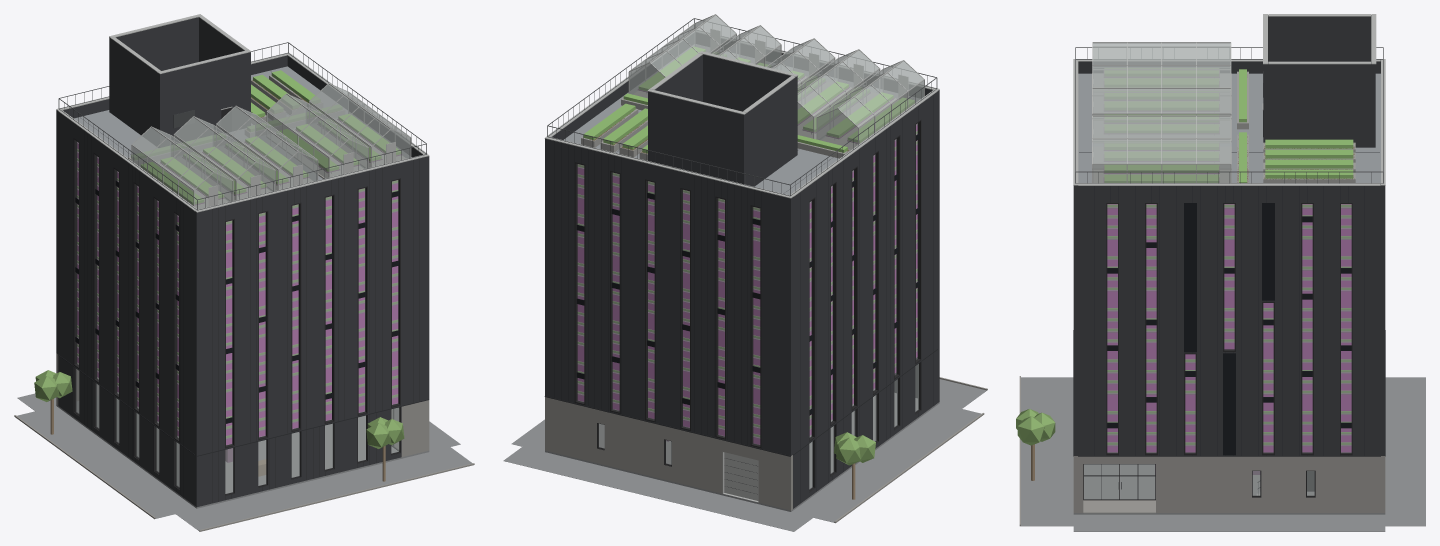
Rendered from clay-led-grow-block-clay-v007.glb.
The picture shows the model from 3 angles, left to right: view 1: azimuth 30°, elevation 25°; view 2: azimuth 150°, elevation 25°; view 3: azimuth 270°, elevation 25°; orthographic projection. The views are drawn at different scales.
Parts seen in each view (by area): view 1: CLAY_WALL, CLAY_GLASS, CLAY_TRIM, CLAY_FOUNDATION, CLAY_LEAF, CLAY_PALE, CLAY_LED, CLAY_JOINT, CLAY_SAND, CLAY_STONE, CLAY_MEMBRANE, CLAY_HARDWARE (+3 smaller); view 2: CLAY_WALL, CLAY_GLASS, CLAY_TRIM, CLAY_FOUNDATION, CLAY_STONE, CLAY_PALE, CLAY_LEAF, CLAY_LED, CLAY_JOINT, CLAY_MEMBRANE, CLAY_SAND, CLAY_RACK (+3 smaller); view 3: CLAY_WALL, CLAY_GLASS, CLAY_FOUNDATION, CLAY_LEAF, CLAY_STONE, CLAY_LED, CLAY_PALE, CLAY_TRIM, CLAY_DARKSLOT, CLAY_MEMBRANE, CLAY_SAND, CLAY_JOINT (+3 smaller).
Part boxes in pixels (x1,y1,x2,y2): CLAY_WALL: (56,17,429,506); CLAY_GLASS: (76,84,410,493); CLAY_TRIM: (73,107,400,495); CLAY_FOUNDATION: (15,392,473,531); CLAY_LEAF: (77,70,401,438); CLAY_PALE: (56,14,429,395); CLAY_LED: (77,144,398,444); CLAY_JOINT: (58,117,429,502); CLAY_SAND: (128,75,406,209); CLAY_STONE: (14,353,474,531); CLAY_MEMBRANE: (74,66,411,201); CLAY_HARDWARE: (58,42,426,210); CLAY_WALL: (545,33,939,508); CLAY_GLASS: (577,15,923,489); CLAY_TRIM: (574,120,921,492); CLAY_FOUNDATION: (503,379,986,531); CLAY_STONE: (545,377,987,522); CLAY_PALE: (544,14,939,502); CLAY_LEAF: (577,46,917,437); CLAY_LED: (577,125,917,444); CLAY_JOINT: (544,94,937,502); CLAY_MEMBRANE: (563,44,919,195); CLAY_SAND: (581,52,899,160); CLAY_RACK: (577,76,917,444); CLAY_WALL: (1073,15,1385,491); CLAY_GLASS: (1084,43,1351,499); CLAY_FOUNDATION: (1020,377,1425,531); CLAY_LEAF: (1104,69,1353,444); CLAY_STONE: (1019,376,1385,525); CLAY_LED: (1107,204,1351,452); CLAY_PALE: (1073,14,1385,495); CLAY_TRIM: (1083,110,1352,500); CLAY_DARKSLOT: (1107,203,1351,455); CLAY_MEMBRANE: (1078,73,1380,183); CLAY_SAND: (1084,71,1355,513); CLAY_JOINT: (1073,152,1385,456).
Size of the model in its own units: 29.7 by 32.66 by 30.26.
